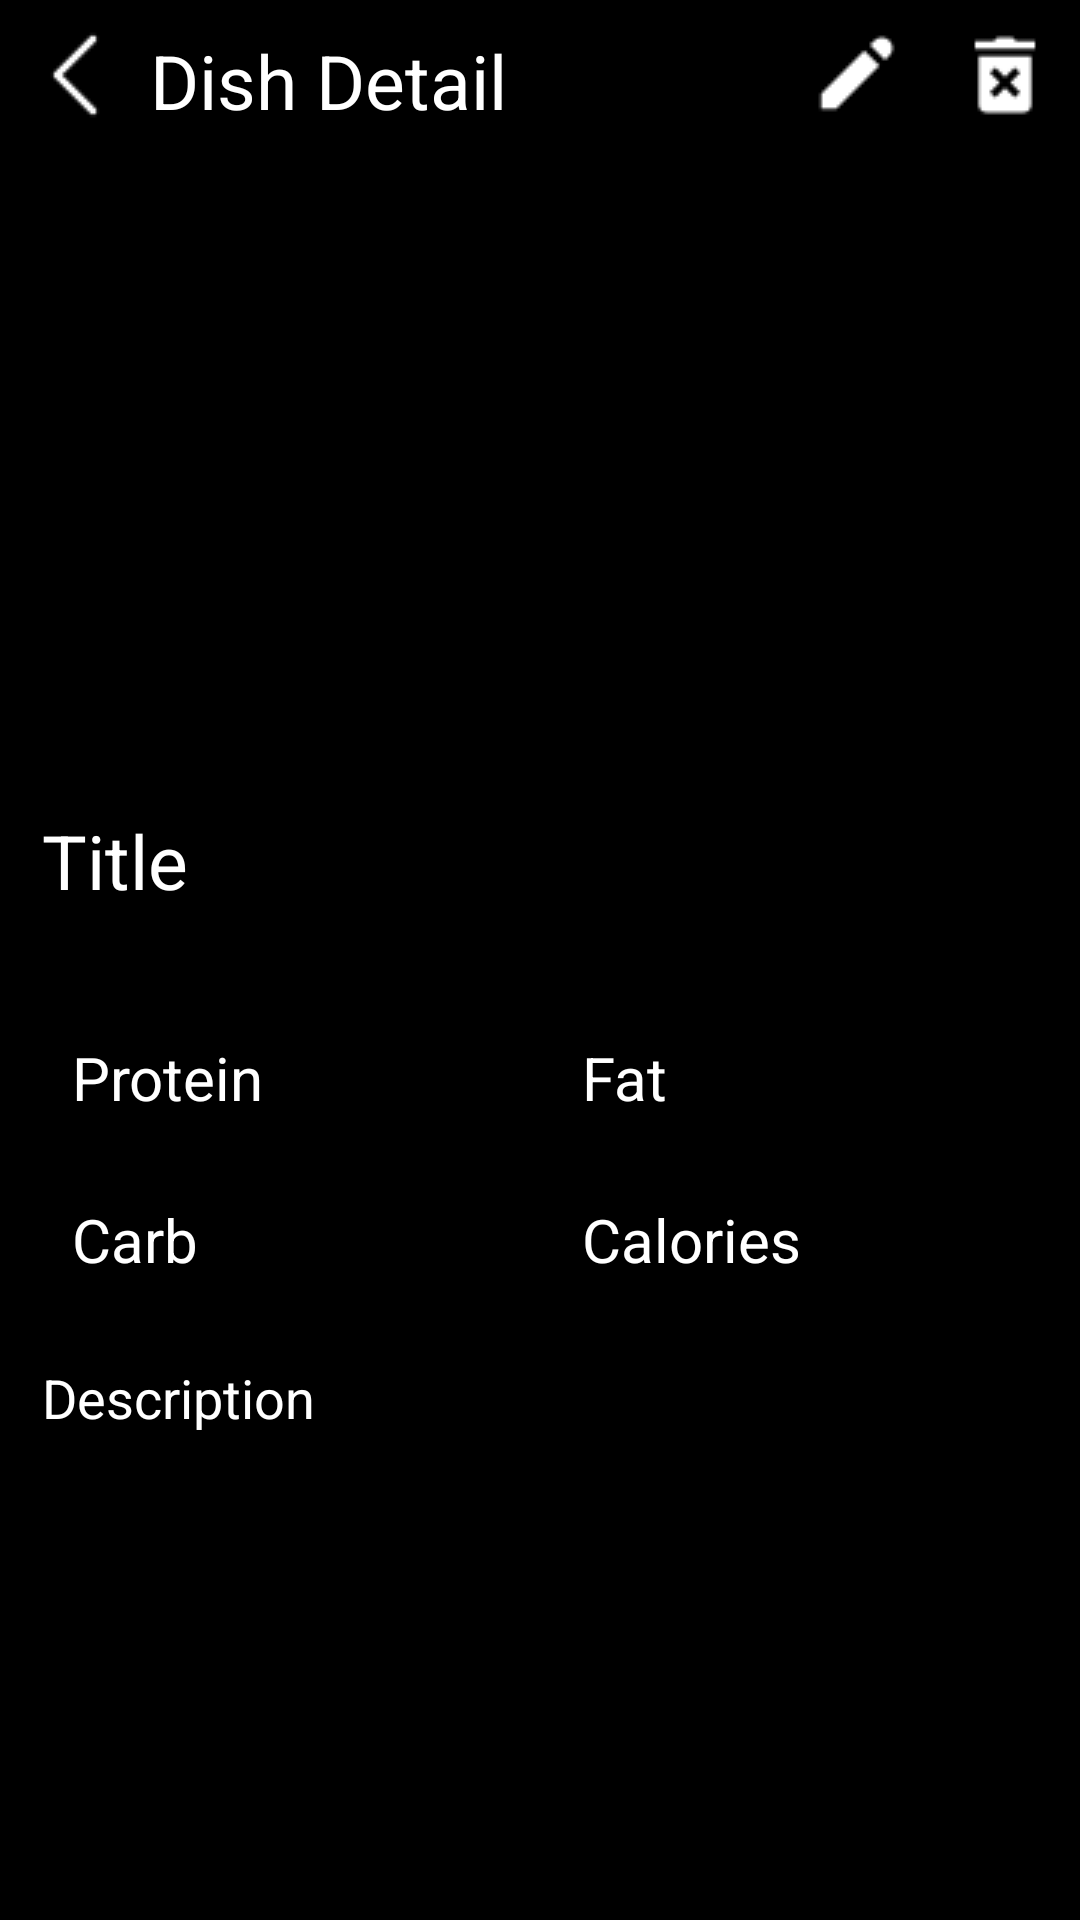

Named icons in this screenshot (1080 × 1920) and their centers, point (x, y):
back: point (75, 75)
delete: point (1005, 75)
edit: point (857, 73)
